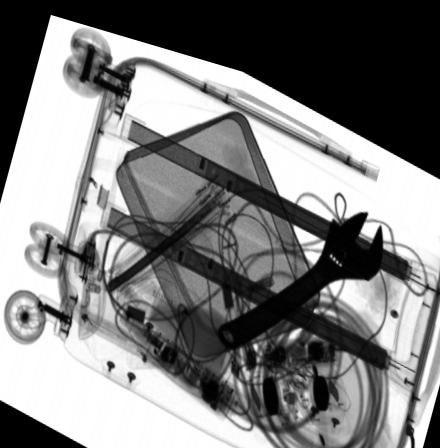Wrench: (217, 188, 382, 335)
